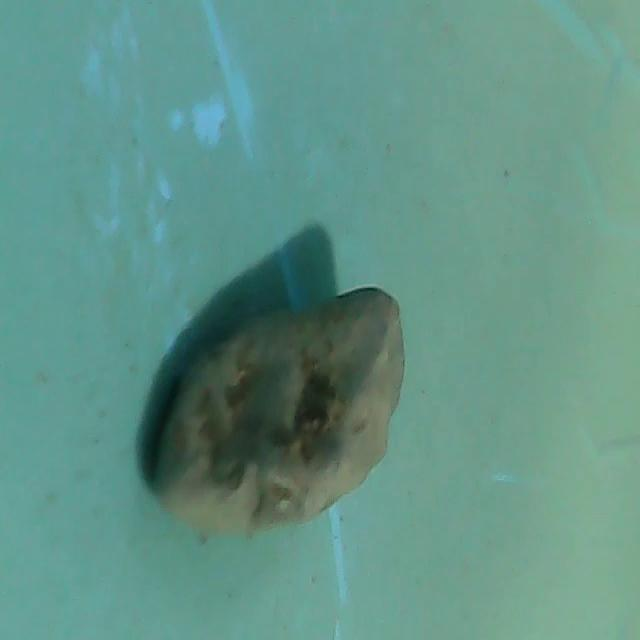rock: (137, 276, 417, 546)
